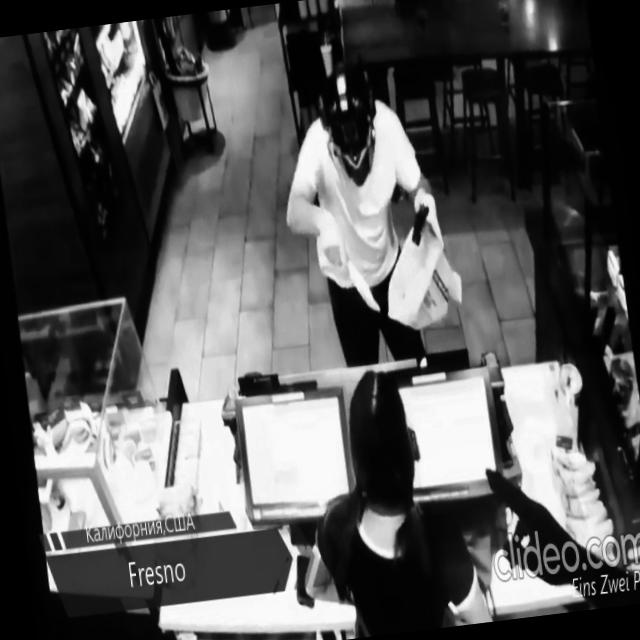gun: (404, 198, 434, 248)
person: (277, 353, 494, 640)
person with a gun: (267, 45, 454, 371)
